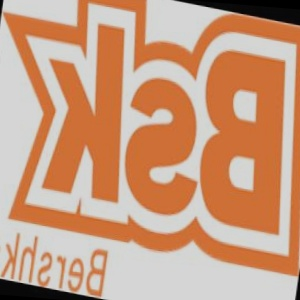bershka: (0, 2, 18, 296)
